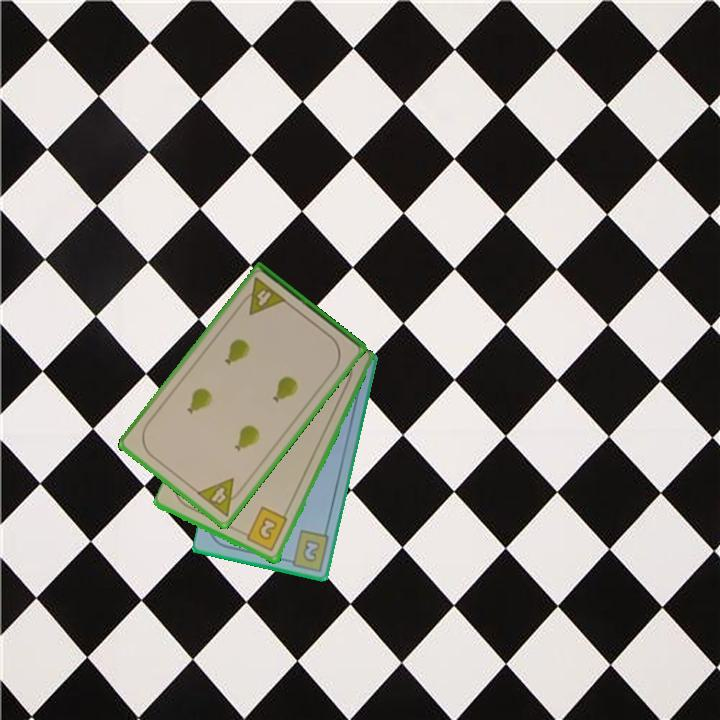2b: (239, 504, 290, 554), (282, 526, 332, 574)
4p: (193, 474, 247, 519), (236, 274, 289, 318)
